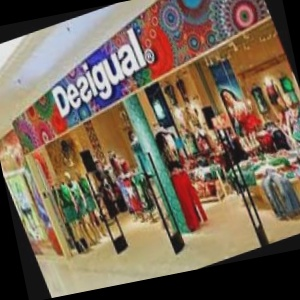desigual: (84, 34, 247, 85)
